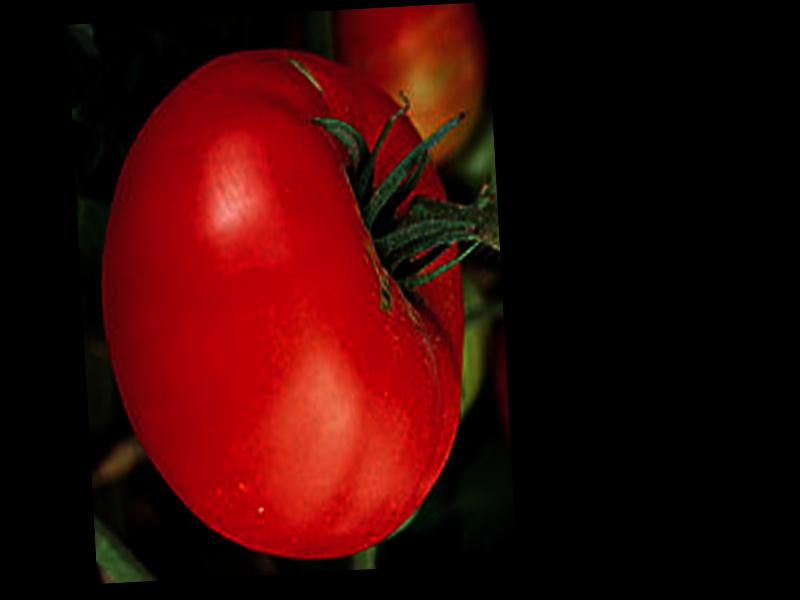Tomato: (88, 42, 474, 567)
